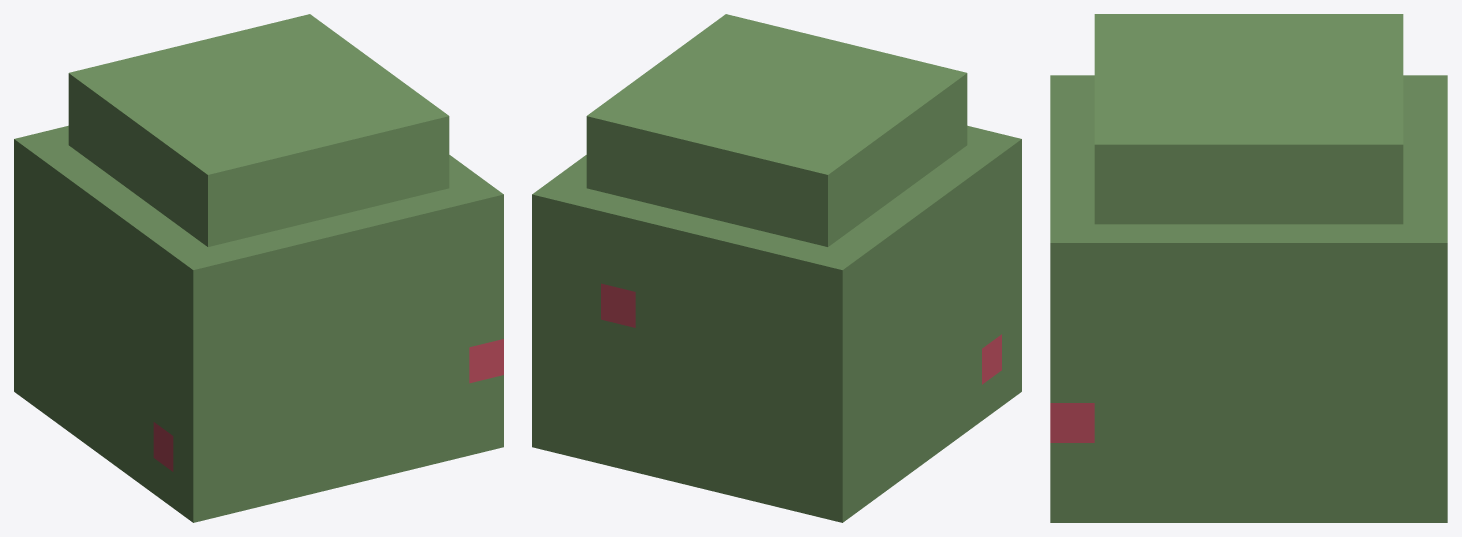
Rendered from fresa_silvestre_03.glb.
The picture shows the model from 3 angles, left to right: view 1: azimuth 30°, elevation 25°; view 2: azimuth 150°, elevation 25°; view 3: azimuth 270°, elevation 25°; orthographic projection. The views are drawn at different scales.
Visible parts, largest first — view 1: fresa_silvestre_03; view 2: fresa_silvestre_03; view 3: fresa_silvestre_03.
Boxes of the visible parts, bbox=[...] form: fresa_silvestre_03: bbox=[14, 14, 503, 522]; fresa_silvestre_03: bbox=[532, 14, 1021, 522]; fresa_silvestre_03: bbox=[1050, 14, 1447, 522].
Bounding box in the file's own units: 0.9 × 0.9 × 0.9.
